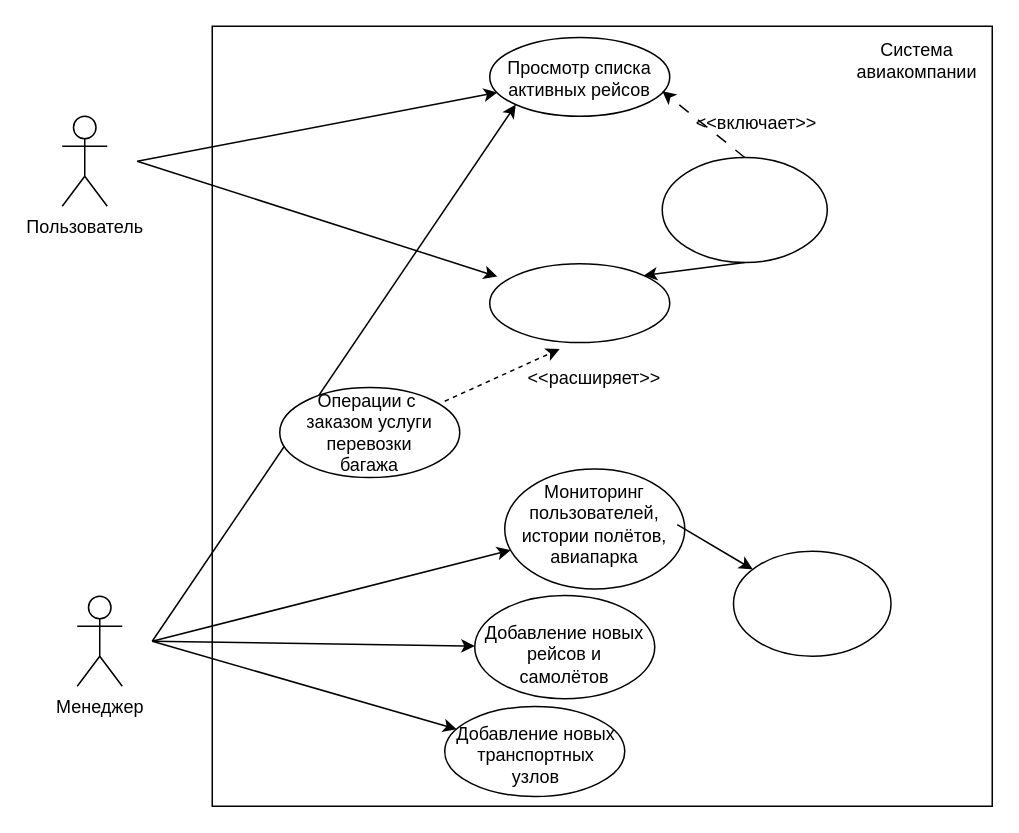
The diagram is 1019 pixels wide and 833 high, and some of its shapes have lost their labels. The centre of each missing label's shape, as x and y in pixels:
"Бронирование и возврат билета" belongs at (x=579, y=302).
"Просмотр числа свободных мест на рейсе" belongs at (x=744, y=209).
"Статистический анализ данных" belongs at (x=811, y=603).
